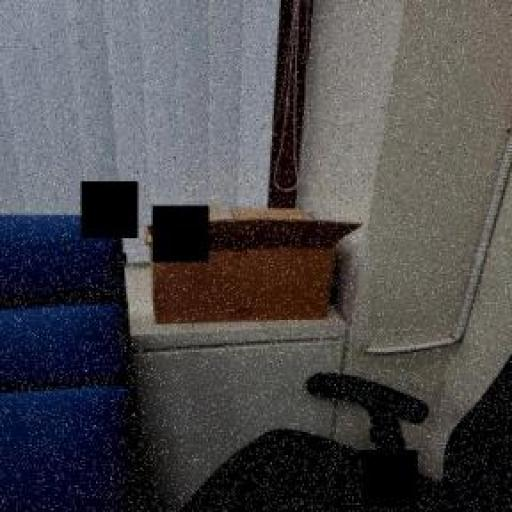box: (125, 198, 369, 340)
